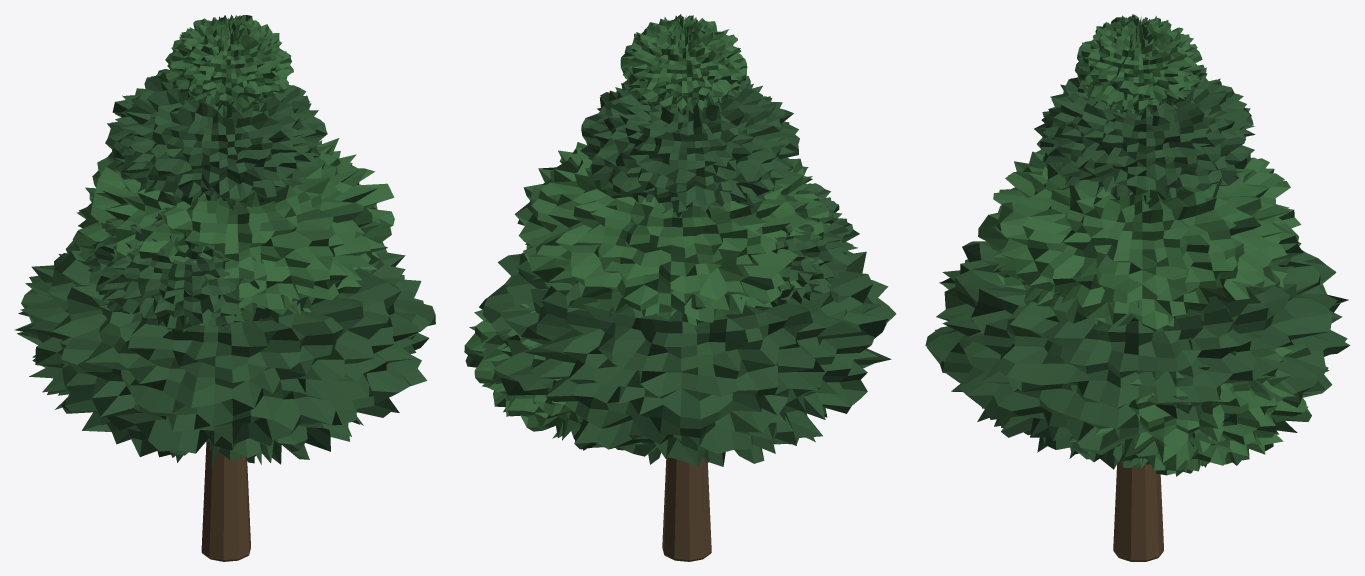
The model's file is BlenderPine.fbx.
The picture shows the model from 3 angles, left to right: view 1: azimuth 30°, elevation 25°; view 2: azimuth 150°, elevation 25°; view 3: azimuth 270°, elevation 25°; orthographic projection.
Visible parts, largest first — view 1: Joined_PineLeaf, Joined_PineLeaf2, Joined_Bark; view 2: Joined_PineLeaf, Joined_PineLeaf2, Joined_Bark; view 3: Joined_PineLeaf, Joined_PineLeaf2, Joined_Bark.
Part boxes in pixels (x1=…): Joined_PineLeaf: x1=14, y1=69, x2=435, y2=467; Joined_PineLeaf2: x1=72, y1=14, x2=394, y2=323; Joined_Bark: x1=201, y1=441, x2=250, y2=561; Joined_PineLeaf: x1=479, y1=75, x2=895, y2=467; Joined_PineLeaf2: x1=464, y1=14, x2=830, y2=440; Joined_Bark: x1=662, y1=457, x2=711, y2=561; Joined_PineLeaf: x1=925, y1=64, x2=1350, y2=469; Joined_PineLeaf2: x1=978, y1=14, x2=1311, y2=476; Joined_Bark: x1=1113, y1=462, x2=1163, y2=561.
Bounding box in the file's own units: 5.57 × 7.83 × 5.65.
